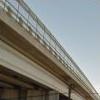Bridge: (5, 1, 92, 97)
